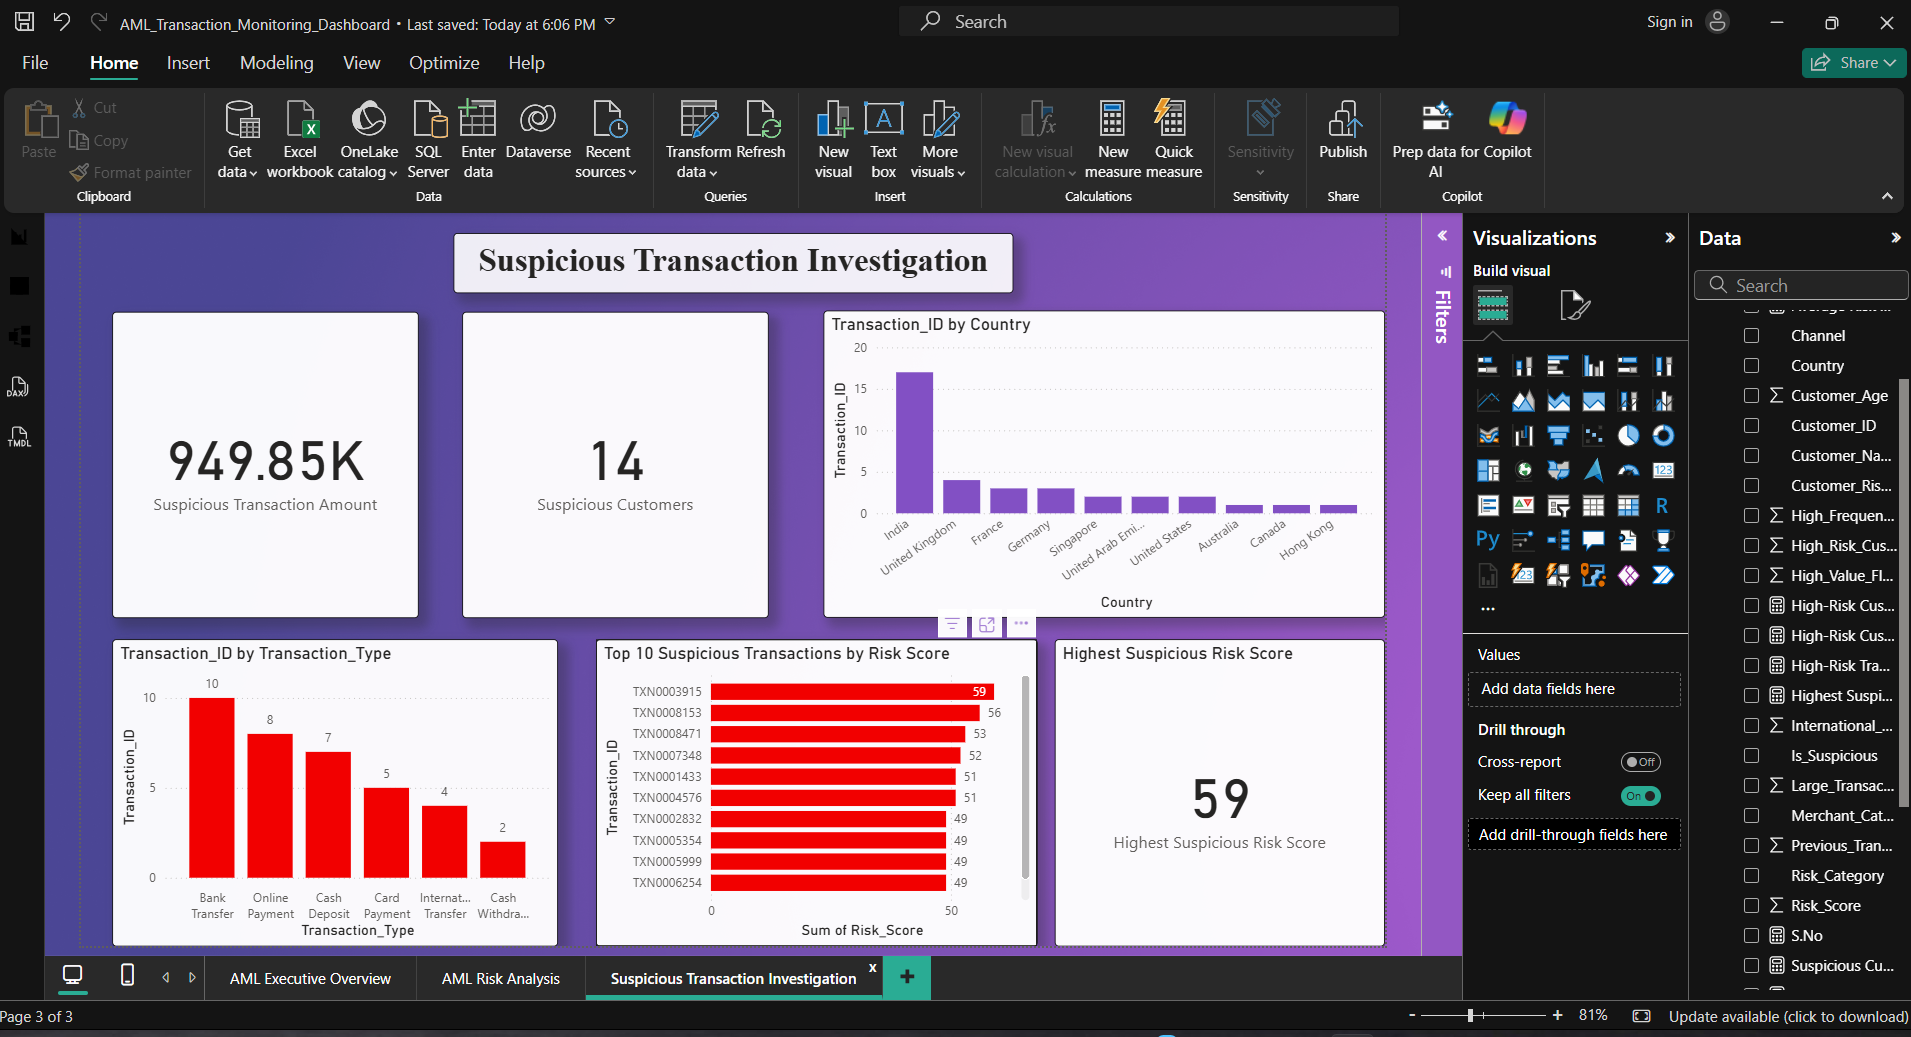

Layout of this report page (visuals, bound fields, positions):
{"tool":"powerbi","page":{"name":"Suspicious Transaction Investigation","canvas":[1280,720],"ordinal":2},"visuals":[{"type":"textbox","box":[365.6,19.6,549.7,58.9],"z":0},{"type":"card","fields":{"Values":["aml_transactions.Suspicious Transaction Amount"]},"box":[30.2,97.4,300.5,300.5],"z":1000},{"type":"card","fields":{"Values":["aml_transactions.Suspicious Customers"]},"box":[374.6,97.4,300.5,300.5],"z":2000},{"type":"clusteredColumnChart","fields":{"Category":["aml_transactions.Country"],"Y":["CountNonNull(aml_transactions.Transaction_ID)"]},"box":[728.8,95.7,550.9,301.8],"z":3000},{"type":"clusteredColumnChart","fields":{"Category":["aml_transactions.Transaction_Type"],"Y":["CountNonNull(aml_transactions.Transaction_ID)"]},"box":[30.2,418.5,437.7,301.9],"z":4000},{"type":"clusteredBarChart","title":"Top 10 Suspicious Transactions by Risk Score","fields":{"Category":["aml_transactions.Transaction_ID"],"Y":["Sum(aml_transactions.Risk_Score)"]},"box":[505,418.5,433.6,301.9],"z":5000},{"type":"card","title":"Highest Suspicious Risk Score","fields":{"Values":["aml_transactions.Highest Suspicious Risk Score"]},"box":[955.8,418.4,323.9,301.8],"z":6000}]}

Visuals, with their boxes on the page's 1280x720 design canvas (x1, y1, x2, y2). These are canvas units, not pixel positions in the 1911x1037 screenshot, which may show the page scaled, cropped or inside an application window:
textbox: detection(366, 20, 915, 78)
card - aml_transactions.Suspicious Transaction Amount: detection(30, 97, 331, 398)
card - aml_transactions.Suspicious Customers: detection(375, 97, 675, 398)
clusteredColumnChart - aml_transactions.Country x CountNonNull(aml_transactions.Transaction_ID): detection(729, 96, 1280, 398)
clusteredColumnChart - aml_transactions.Transaction_Type x CountNonNull(aml_transactions.Transaction_ID): detection(30, 418, 468, 720)
"Top 10 Suspicious Transactions by Risk Score" clusteredBarChart: detection(505, 418, 939, 720)
"Highest Suspicious Risk Score" card: detection(956, 418, 1280, 720)
